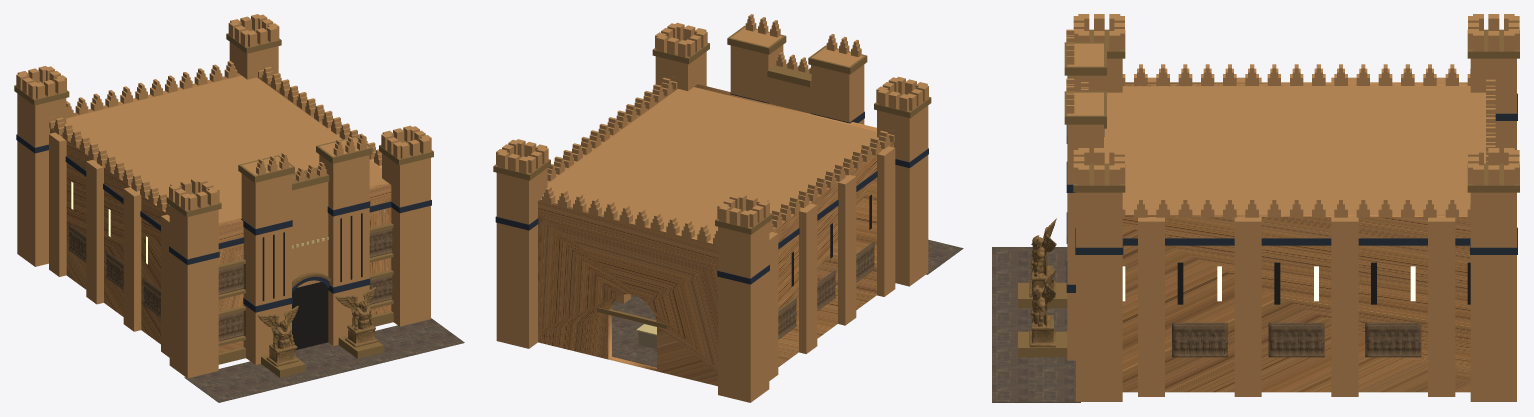
File: citadel-hotel.glb
3 renders of one model, left to right at view 1: azimuth 30°, elevation 25°; view 2: azimuth 150°, elevation 25°; view 3: azimuth 270°, elevation 25°, orthographic. The views are drawn at different scales.
Visible parts, largest first — view 1: hotel_wall, hotel_floor, hotel_trim, merged_hotel_relief_citadel-relief, hotel_shadow, hotel_glaze, merged_hotel_trim; view 2: hotel_wall, hotel_trim, hotel_floor, merged_hotel_relief_citadel-relief, hotel_glaze; view 3: hotel_wall, hotel_floor, merged_hotel_relief_citadel-relief, hotel_trim, hotel_glaze, merged_hotel_trim, hotel_shadow, hotel_glass.
Part boxes in pixels (x1,y1,x2,y2): hotel_wall: (16,14,431,378); hotel_floor: (184,318,464,402); hotel_trim: (14,29,433,377); merged_hotel_relief_citadel-relief: (68,223,392,341); hotel_shadow: (262,213,362,349); hotel_glaze: (16,134,431,312); merged_hotel_trim: (257,286,377,366); hotel_wall: (496,14,928,402); hotel_trim: (493,25,931,328); hotel_floor: (612,239,963,367); merged_hotel_relief_citadel-relief: (778,241,874,339); hotel_glaze: (495,93,928,284); hotel_wall: (1066,14,1519,401); hotel_floor: (992,247,1080,402); merged_hotel_relief_citadel-relief: (1172,322,1421,357); hotel_trim: (1018,29,1519,357); hotel_glaze: (1066,93,1517,292); merged_hotel_trim: (1029,218,1056,347); hotel_shadow: (1177,262,1470,304); hotel_glass: (1122,266,1415,301).
Bounding box in the file's own units: 19.1 × 15.02 × 27.3.
Materials: 9 (5 with a texture image).
